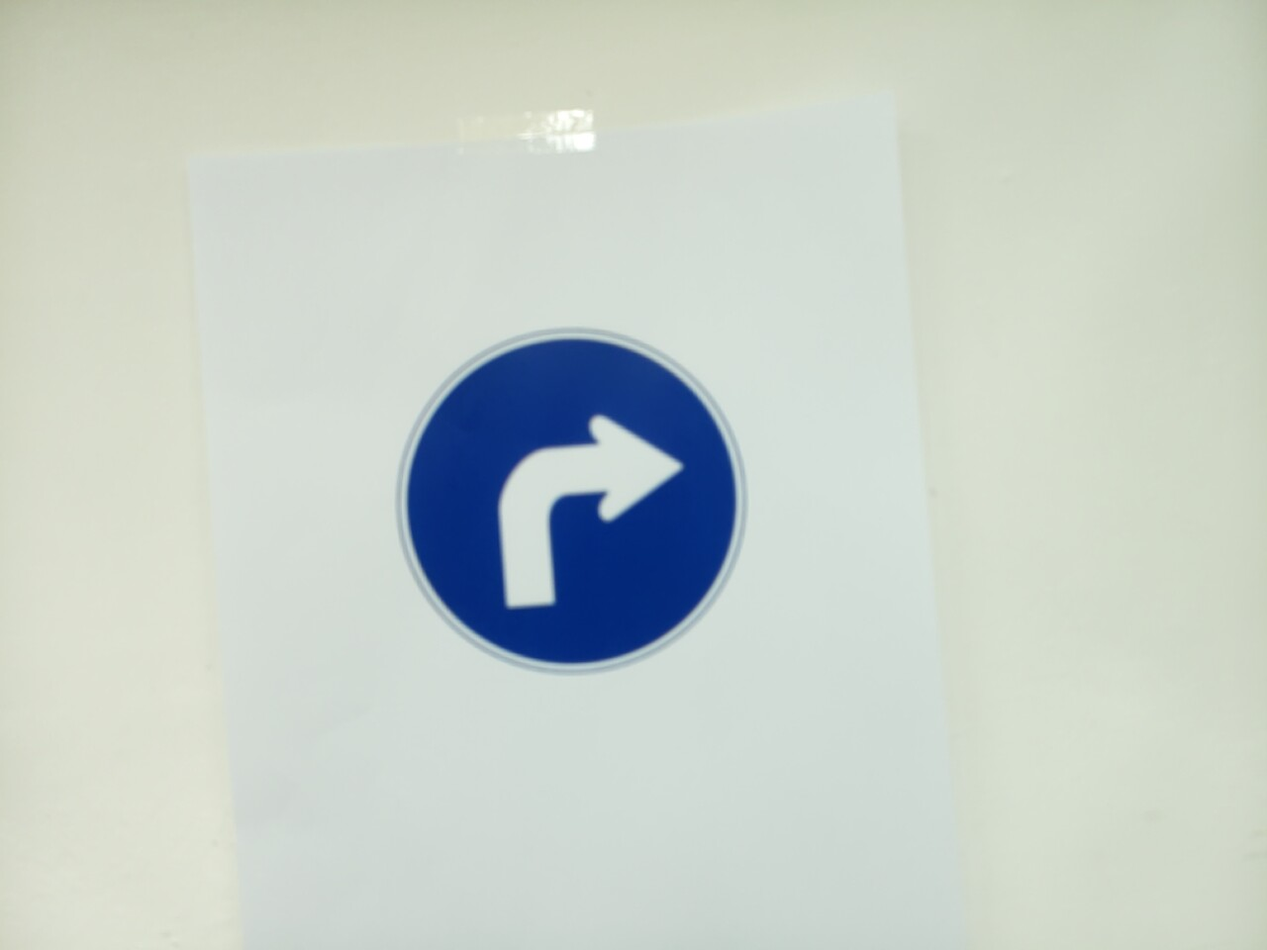right_turn: (397, 329, 746, 674)
